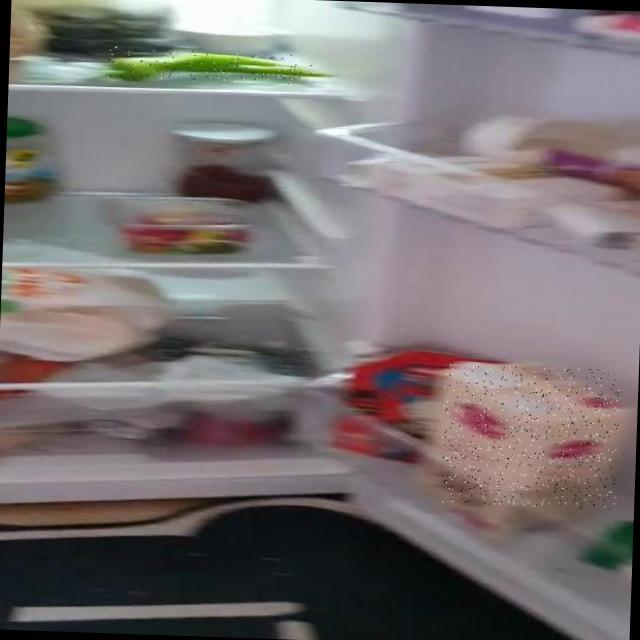green chilies: (106, 46, 313, 84)
milk: (440, 364, 621, 510)
